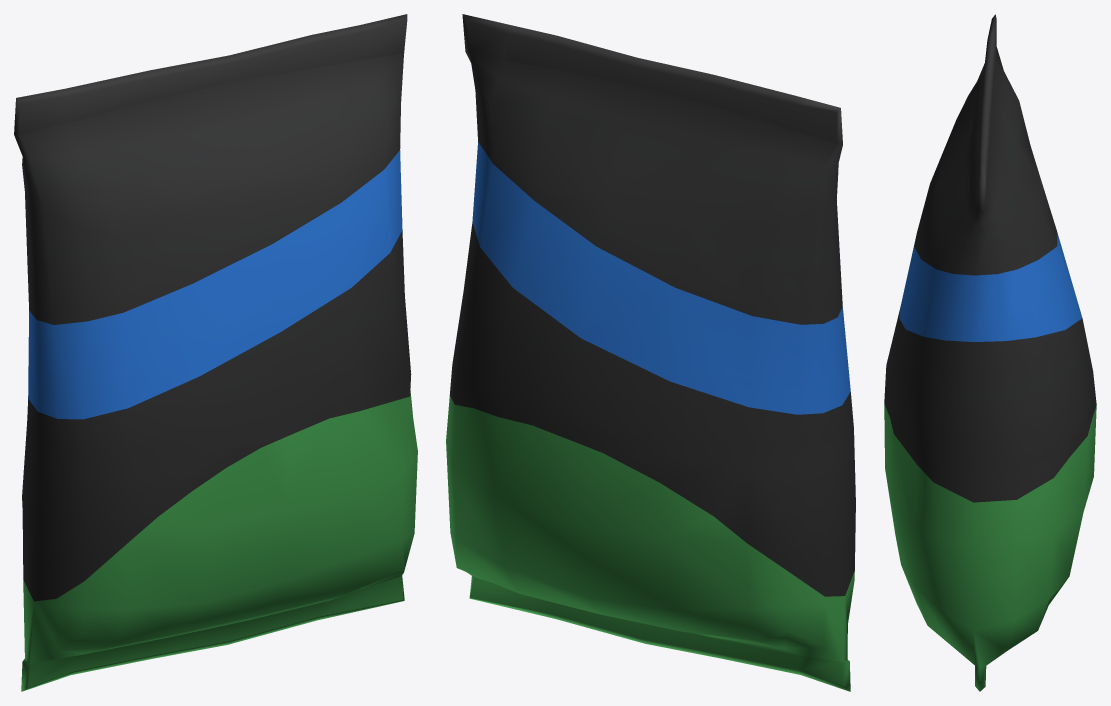
Rendered from chips_003.fbx.
3 views of the same model, side by side, from view 1: azimuth 30°, elevation 25°; view 2: azimuth 150°, elevation 25°; view 3: azimuth 270°, elevation 25° (orthographic). The views are drawn at different scales.
Visible parts, largest first — view 1: chips_003; view 2: chips_003; view 3: chips_003.
Boxes of the visible parts, <box> form: chips_003: <box>14,14,417,691</box>; chips_003: <box>446,14,855,691</box>; chips_003: <box>884,14,1096,691</box>.
Size of the model in its own units: 15.92 by 8.63 by 23.18.
